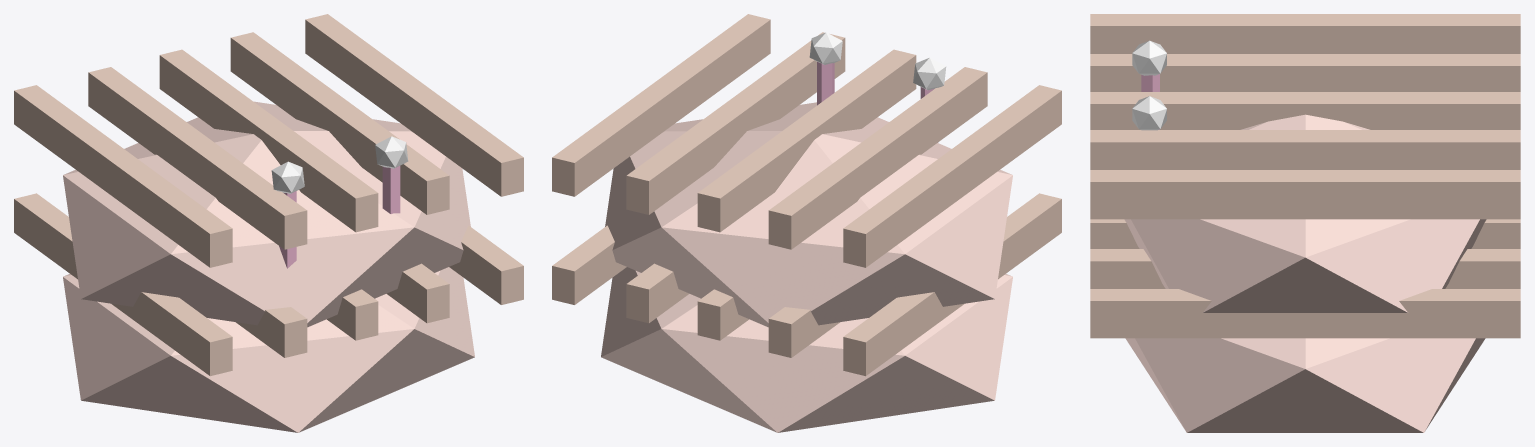
The model's file is Clam.fbx.
3 views of the same model, side by side, from view 1: azimuth 30°, elevation 25°; view 2: azimuth 150°, elevation 25°; view 3: azimuth 270°, elevation 25° (orthographic). The views are drawn at different scales.
Visible parts, largest first — view 1: Limb_Lid, Body; view 2: Limb_Lid, Body; view 3: Limb_Lid, Body.
Part boxes in pixels (x1,y1,x2,y2): Limb_Lid: (14, 14, 523, 327); Body: (14, 136, 523, 432); Limb_Lid: (552, 14, 1061, 327); Body: (552, 32, 1061, 432); Limb_Lid: (1090, 14, 1520, 312); Body: (1090, 40, 1520, 432).
Bounding box in the file's own units: 1.16 × 0.9 × 1.05.
